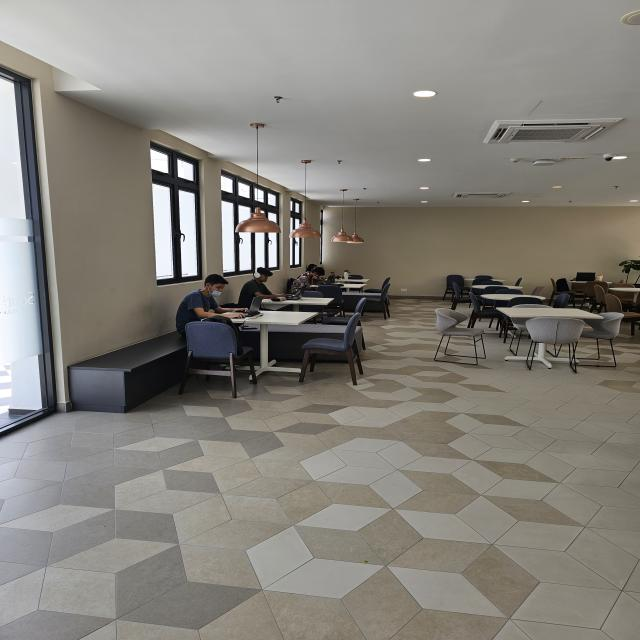footpath: (43, 420, 640, 640)
obstacle: (64, 325, 374, 414), (427, 296, 622, 374)
person: (173, 272, 253, 329)
